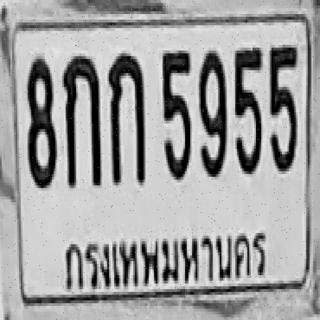A01: (62, 53, 100, 185)
N05: (232, 45, 262, 174), (268, 44, 298, 172), (161, 49, 190, 178)
N08: (26, 56, 56, 188)
N09: (197, 48, 227, 177)
P04: (60, 223, 268, 299)
